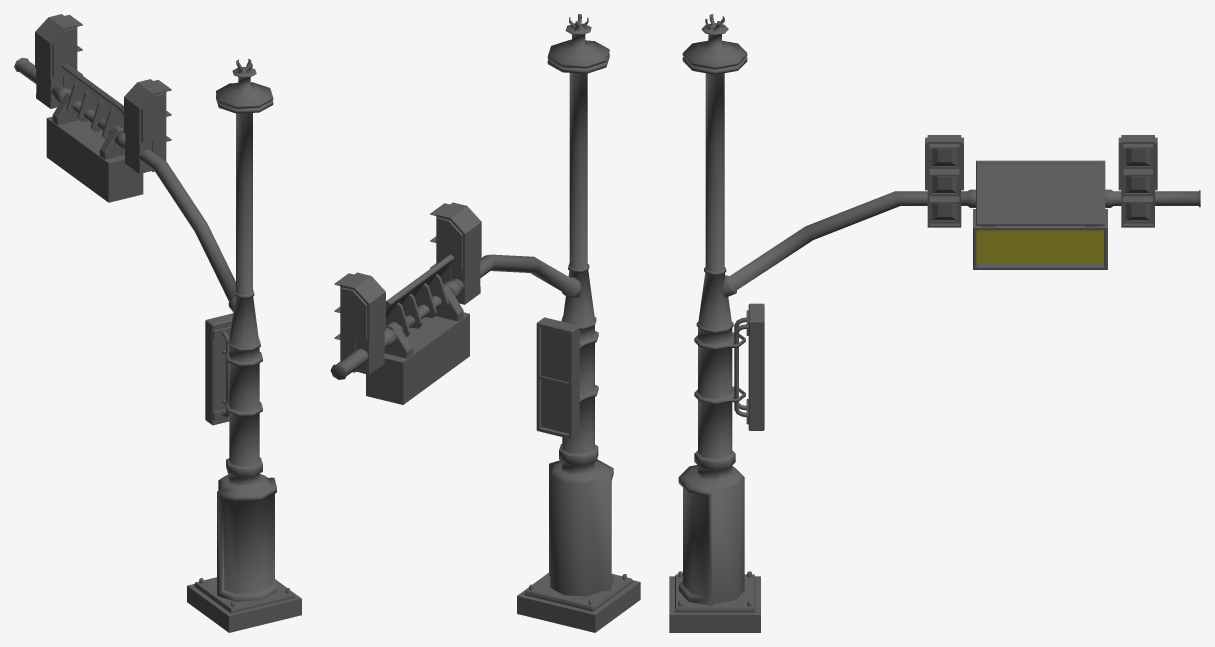
Rendered from TrafficLight.obj.
3 renders of one model, left to right at view 1: azimuth 30°, elevation 25°; view 2: azimuth 150°, elevation 25°; view 3: azimuth 270°, elevation 25°, orthographic. The views are drawn at different scales.
Parts seen in each view (by area): view 1: TrafficLight_Cylinder.004; view 2: TrafficLight_Cylinder.004; view 3: TrafficLight_Cylinder.004.
Boxes of the visible parts, box(x1,y1,x2,y2) form: TrafficLight_Cylinder.004: box(14, 14, 301, 632); TrafficLight_Cylinder.004: box(330, 14, 640, 632); TrafficLight_Cylinder.004: box(669, 14, 1200, 632).
Bounding box in the file's own units: 1.13 × 8.08 × 6.53.
